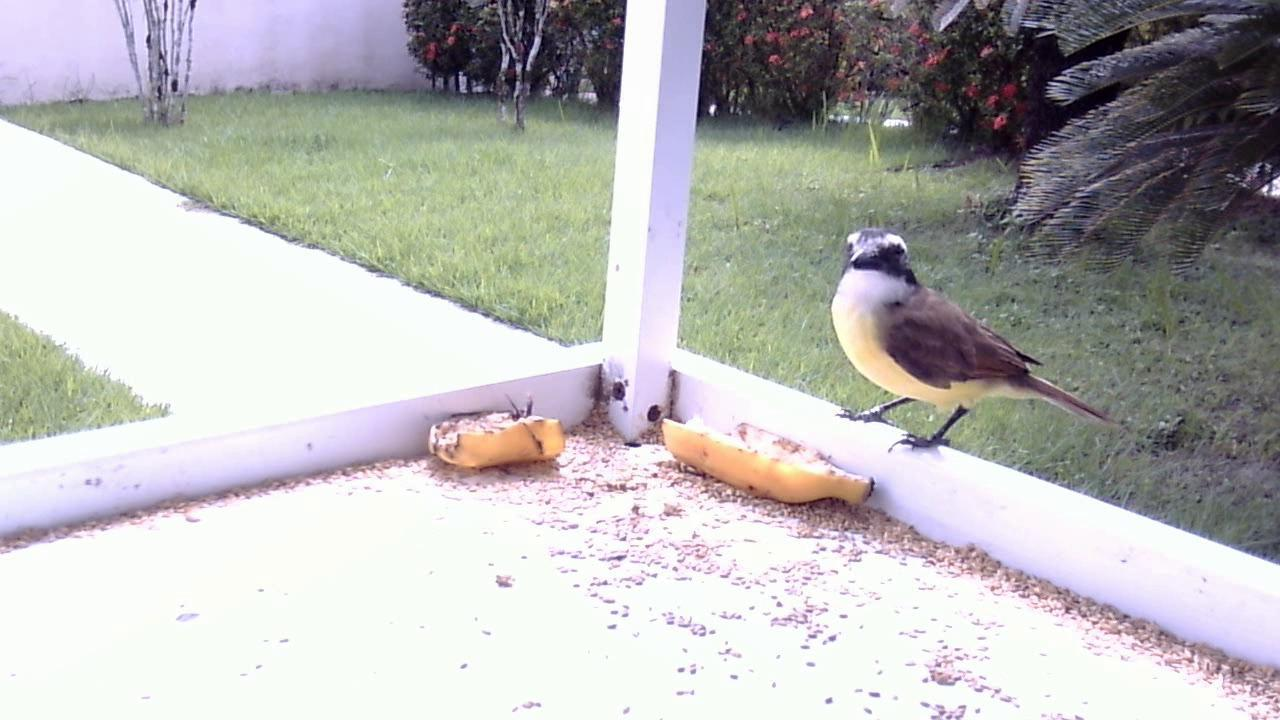bem_te_vi: (817, 215, 1130, 482)
